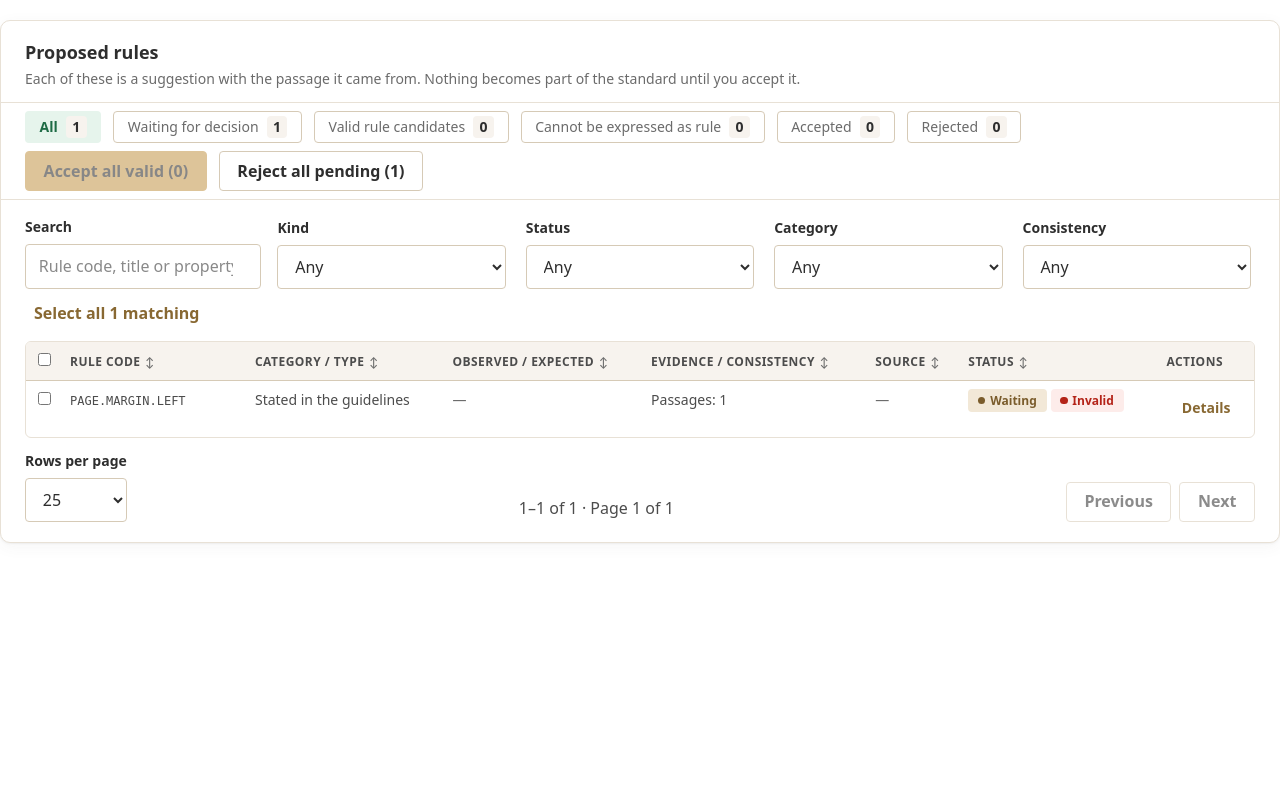
it: the proposal review screen › shows a proposal PalCert refused, unchanged, with the reasons
expect the text "Invalid" is shown: met, box [1050,389,1124,412]
Click the button "Details" at (1206, 409), box [1166,389,1246,429]
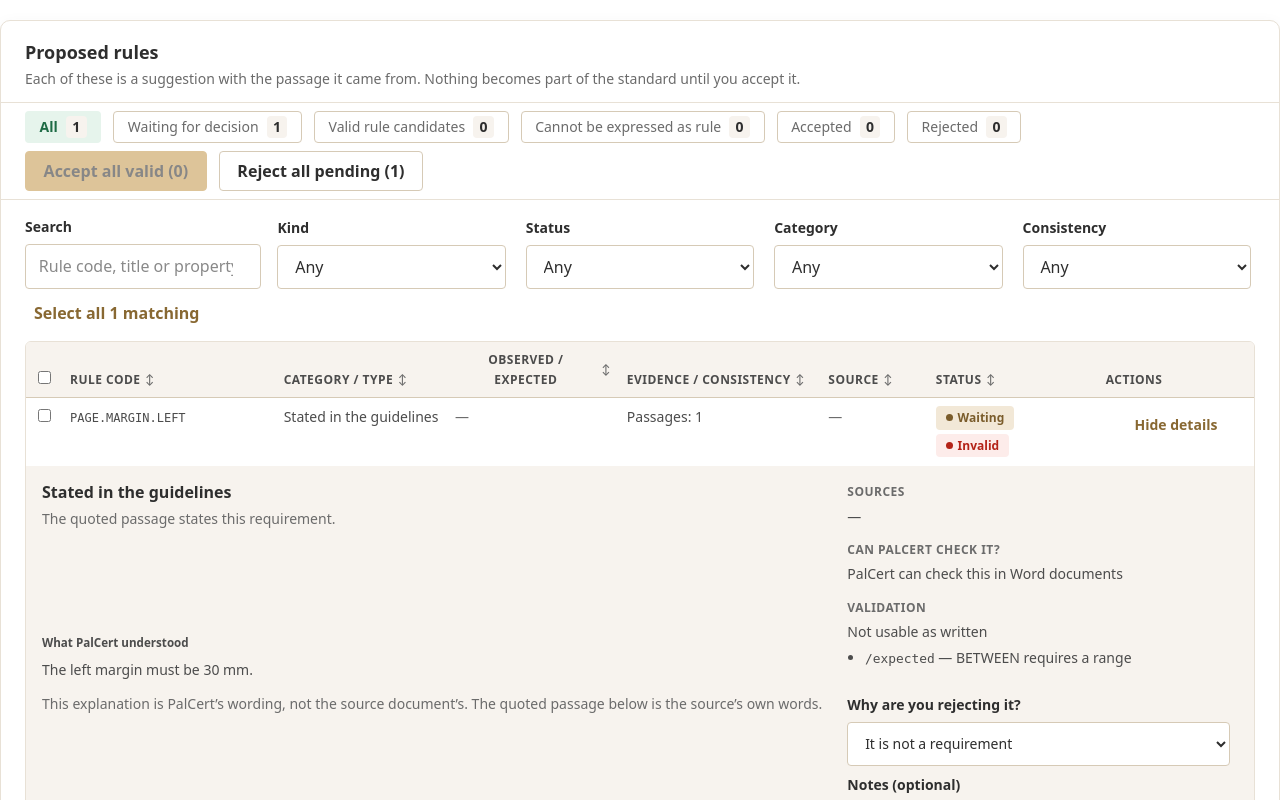
expect the text "Not usable as written" is shown: met, box [847,622,987,641]
expect the list item "/expected — BETWEEN requires a range" is shown: met, box [865,648,1132,667]
